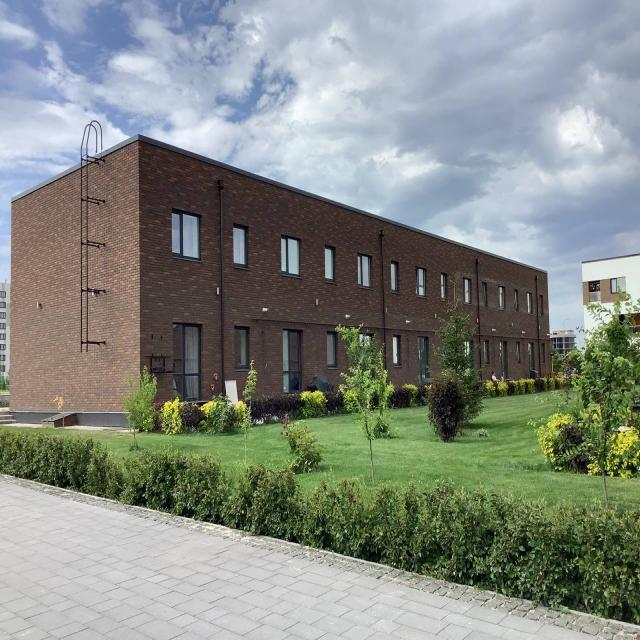Building: (8, 136, 552, 427)
